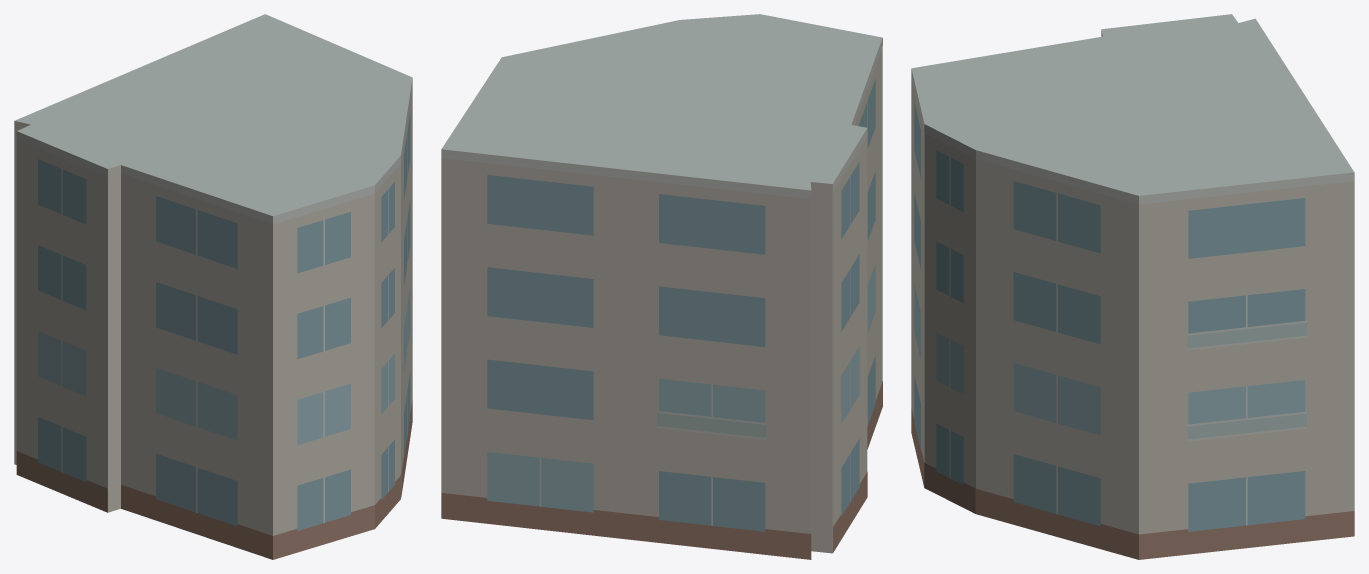
File: survey-upis-32759730.glb
3 renders of one model, left to right at view 1: azimuth 30°, elevation 25°; view 2: azimuth 150°, elevation 25°; view 3: azimuth 270°, elevation 25°, orthographic. The views are drawn at different scales.
Visible parts, largest first — view 1: survey-upis-32759730.tmp; view 2: survey-upis-32759730.tmp; view 3: survey-upis-32759730.tmp.
Boxes of the visible parts, x1,y1,x2,y2 form: survey-upis-32759730.tmp: [14, 14, 412, 559]; survey-upis-32759730.tmp: [441, 14, 882, 559]; survey-upis-32759730.tmp: [911, 14, 1354, 559].
Bounding box in the file's own units: 11.05 × 10.3 × 11.38.
